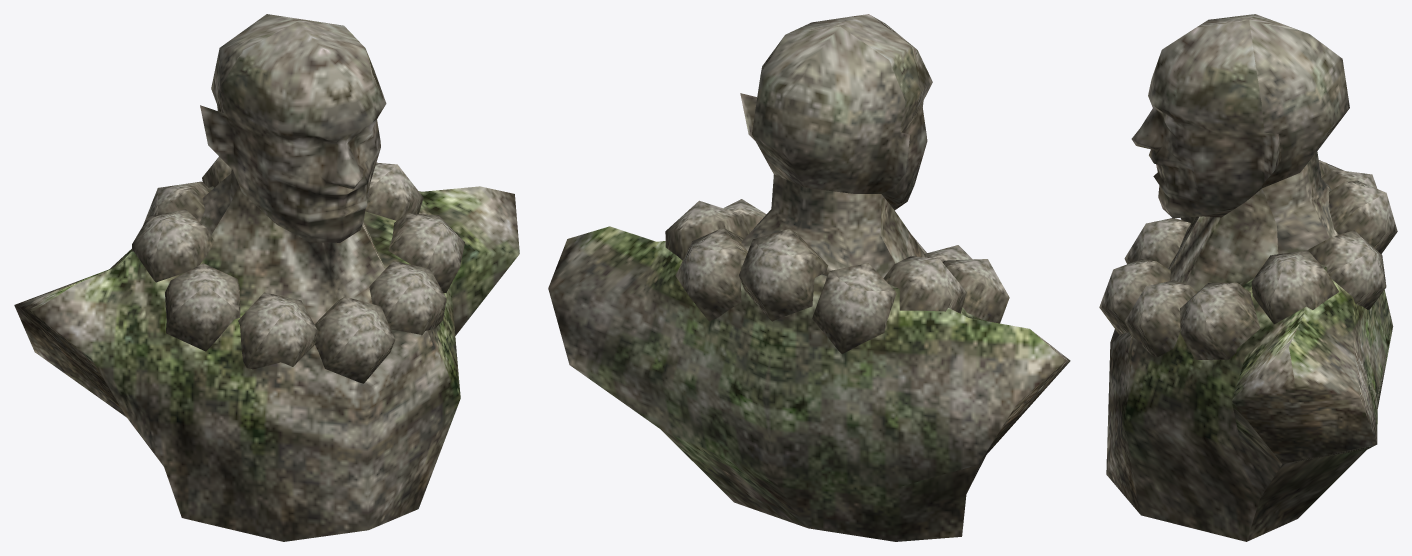
File: general_obj_stoneimage01.glb
The picture shows the model from 3 angles, left to right: view 1: azimuth 30°, elevation 25°; view 2: azimuth 150°, elevation 25°; view 3: azimuth 270°, elevation 25°; orthographic projection. The views are drawn at different scales.
Visible parts, largest first — view 1: Sphere01; view 2: Sphere01; view 3: Sphere01.
Part boxes in pixels (<box>): Sphere01: <box>14,14,519,541</box>; Sphere01: <box>548,14,1070,541</box>; Sphere01: <box>1099,14,1397,541</box>.
Size of the model in its own units: 5.85 by 5.41 by 3.15.
Materials: 1 (1 with a texture image).
